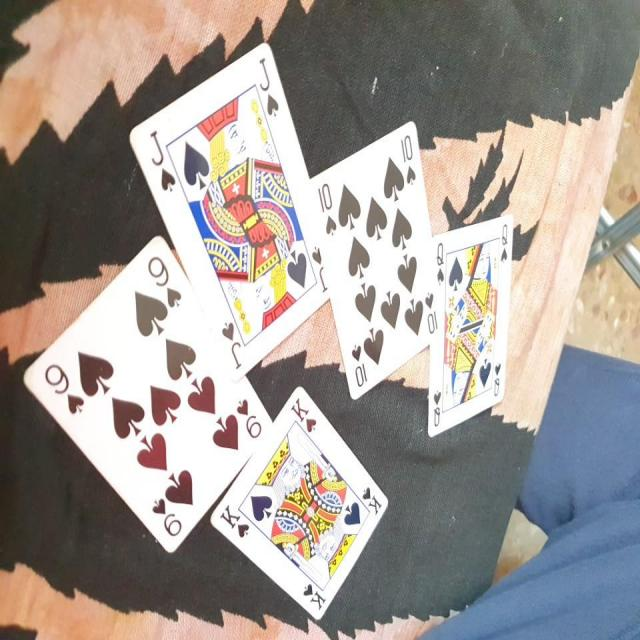10 Spades: (302, 109, 448, 402)
9 Spades: (12, 228, 274, 569)
J Spades: (127, 45, 339, 362)
K Spades: (209, 383, 394, 624)
Q Spades: (426, 215, 514, 444)
